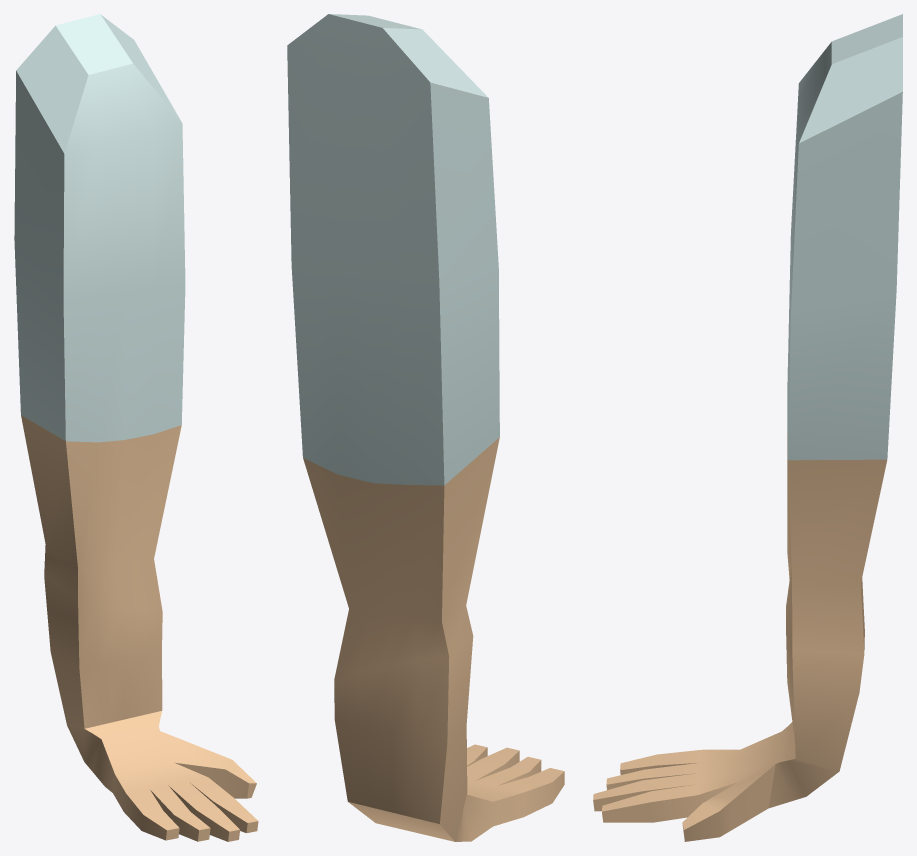
The model's file is arm90babyblueshort.fbx.
3 views of the same model, side by side, from view 1: azimuth 30°, elevation 25°; view 2: azimuth 150°, elevation 25°; view 3: azimuth 270°, elevation 25° (orthographic). The views are drawn at different scales.
Visible parts, largest first — view 1: Arm90Longer; view 2: Arm90Longer; view 3: Arm90Longer.
Boxes of the visible parts, x1,y1,x2,y2 form: Arm90Longer: [14, 14, 258, 841]; Arm90Longer: [287, 14, 564, 841]; Arm90Longer: [593, 14, 902, 841].
Size of the model in its own units: 342 by 1645 by 592.
